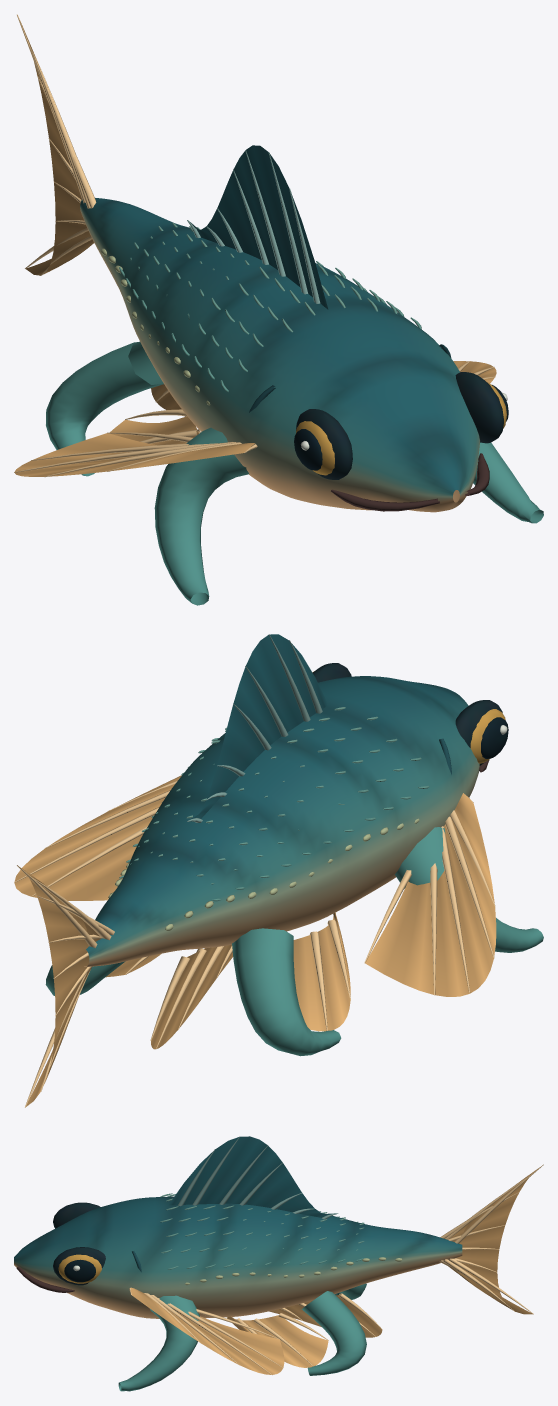
File: lungfish.glb
The picture shows the model from 3 angles, top to bottom: view 1: azimuth 30°, elevation 25°; view 2: azimuth 150°, elevation 25°; view 3: azimuth 270°, elevation 25°; orthographic projection. The views are drawn at different scales.
Parts seen in each view (by area): view 1: body, dorsal, fin_-1, tail, fins; view 2: body, fin_-1, dorsal, fins, fin_1, tail; view 3: body, dorsal, tail, fin_1, fins.
Part boxes in pixels (left/top/right/bottom): body: left=46, top=198, right=543, bottom=605; dorsal: left=187, top=145, right=328, bottom=309; fin_-1: left=14, top=432, right=257, bottom=477; tail: left=17, top=14, right=96, bottom=275; fins: left=110, top=384, right=200, bottom=445; body: left=45, top=663, right=543, bottom=1056; fin_-1: left=364, top=793, right=496, bottom=996; dorsal: left=187, top=634, right=327, bottom=822; fins: left=106, top=912, right=350, bottom=1049; fin_1: left=14, top=775, right=181, bottom=900; tail: left=17, top=865, right=114, bottom=1107; body: left=14, top=1193, right=462, bottom=1391; dorsal: left=168, top=1136, right=338, bottom=1219; tail: left=439, top=1164, right=543, bottom=1314; fin_1: left=129, top=1287, right=284, bottom=1374; fins: left=227, top=1293, right=382, bottom=1367.
Size of the model in its own units: 2.24 by 1.57 by 3.67.
